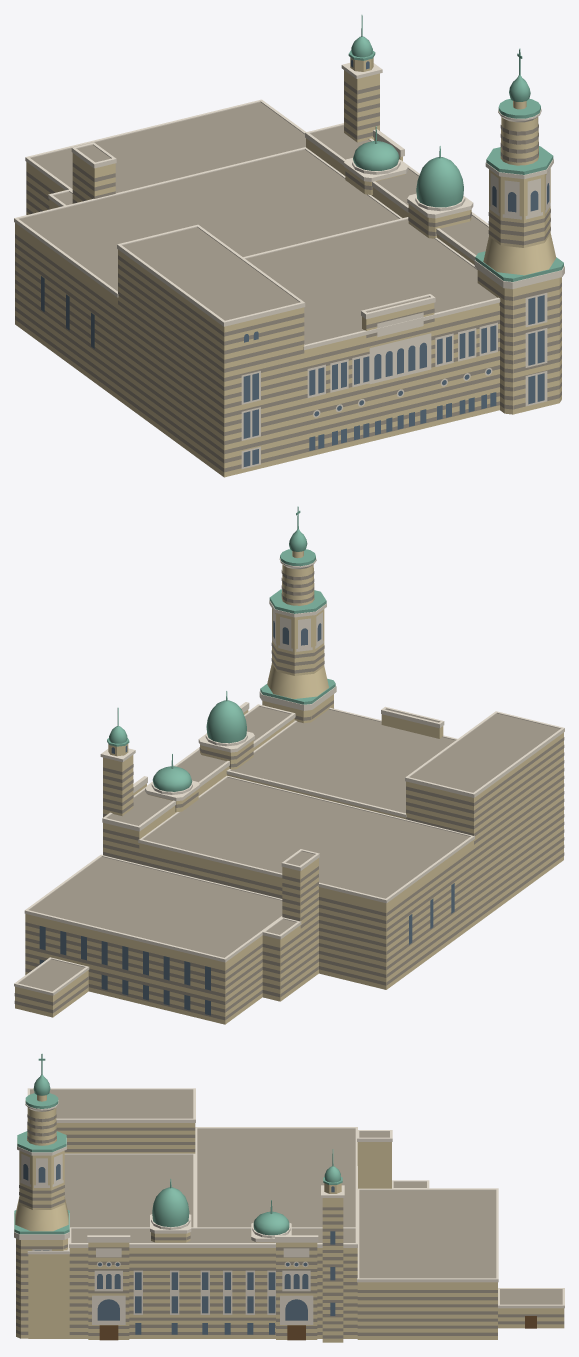
File: indy-old-national-centre.glb
3 renders of one model, top to bottom at view 1: azimuth 30°, elevation 25°; view 2: azimuth 150°, elevation 25°; view 3: azimuth 270°, elevation 25°, orthographic. The views are drawn at different scales.
Visible parts, largest first — view 1: Old National Centre; view 2: Old National Centre; view 3: Old National Centre.
Boxes of the visible parts, x1,y1,x2,y2 form: Old National Centre: (14,15,564,477); Old National Centre: (14,506,564,1024); Old National Centre: (14,1053,564,1342).
Bounding box in the file's own units: 63.82 × 61.6 × 112.
